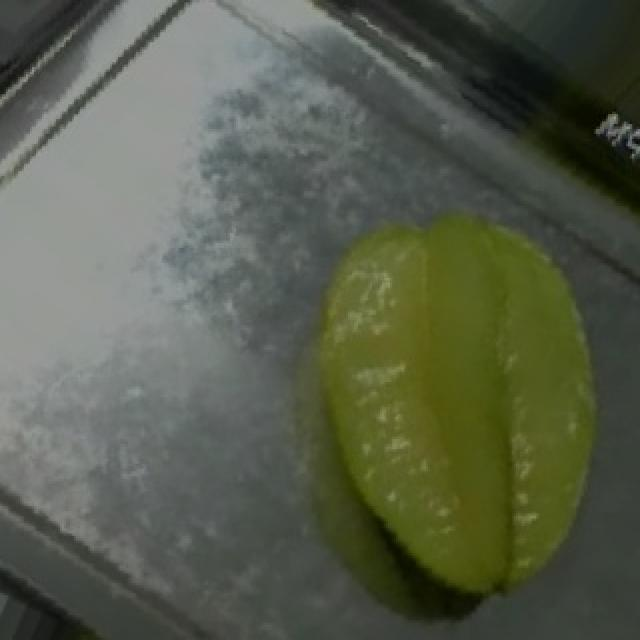fruit: (224, 109, 640, 638)
